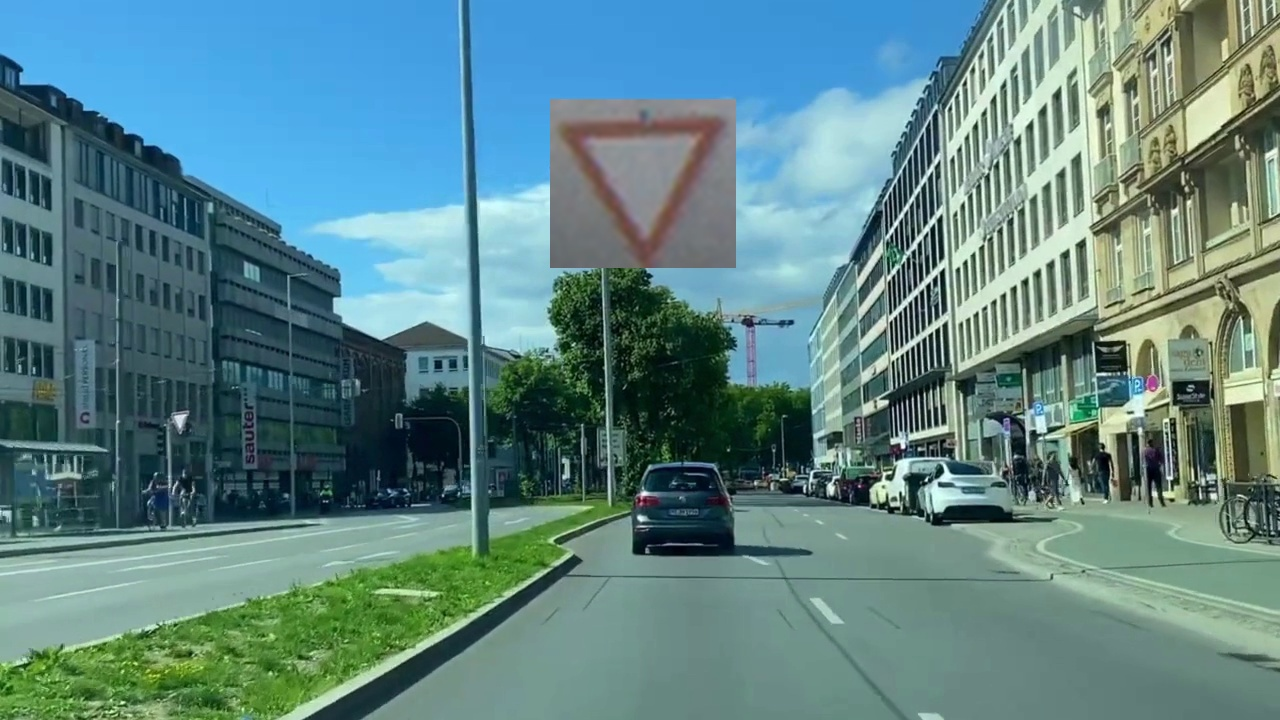Yield: (550, 99, 736, 268)
